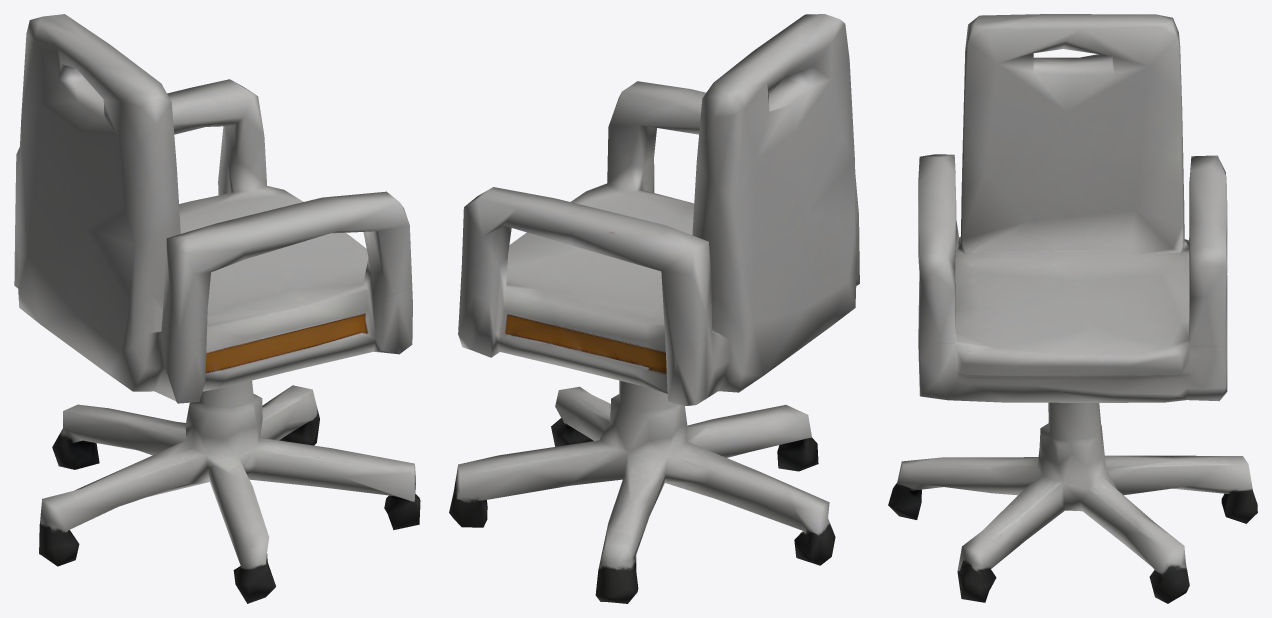
3 renders of one model, left to right at view 1: azimuth 30°, elevation 25°; view 2: azimuth 150°, elevation 25°; view 3: azimuth 270°, elevation 25°, orthographic. The views are drawn at different scales.
Visible parts, largest first — view 1: tripo_node_ba12870e-8609-407f-865e-79e4c0fd91ec; view 2: tripo_node_ba12870e-8609-407f-865e-79e4c0fd91ec; view 3: tripo_node_ba12870e-8609-407f-865e-79e4c0fd91ec.
Boxes of the visible parts, box(x1,y1,x2,y2) form: tripo_node_ba12870e-8609-407f-865e-79e4c0fd91ec: box(14, 14, 420, 603); tripo_node_ba12870e-8609-407f-865e-79e4c0fd91ec: box(449, 14, 859, 603); tripo_node_ba12870e-8609-407f-865e-79e4c0fd91ec: box(888, 14, 1257, 603).
Bounding box in the file's own units: 0.6841 × 0.9961 × 0.7138.
1 material, 1 textured.
